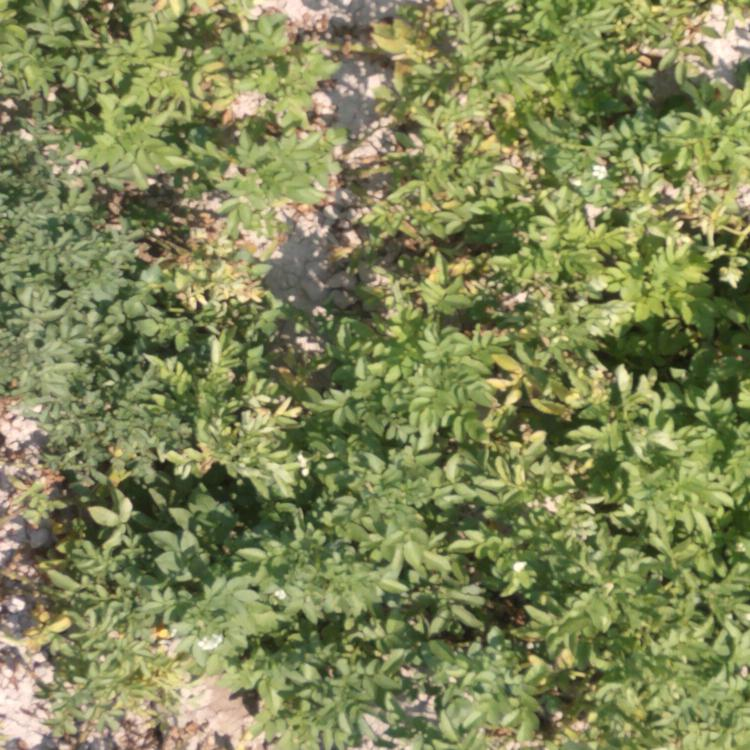healthy: (141, 349, 749, 750), (349, 186, 750, 340), (385, 1, 728, 172), (1, 12, 129, 397), (141, 1, 316, 206)
stressed: (13, 411, 123, 737), (145, 215, 278, 337)
